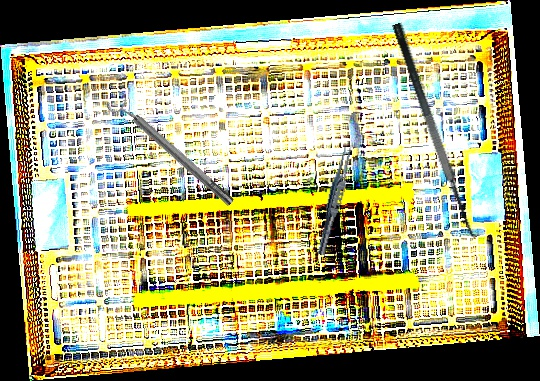Fixation Ring: (104, 88, 239, 213)
Spatula Surgical: (391, 16, 490, 242)
Tissue Forceps: (314, 142, 356, 257)
